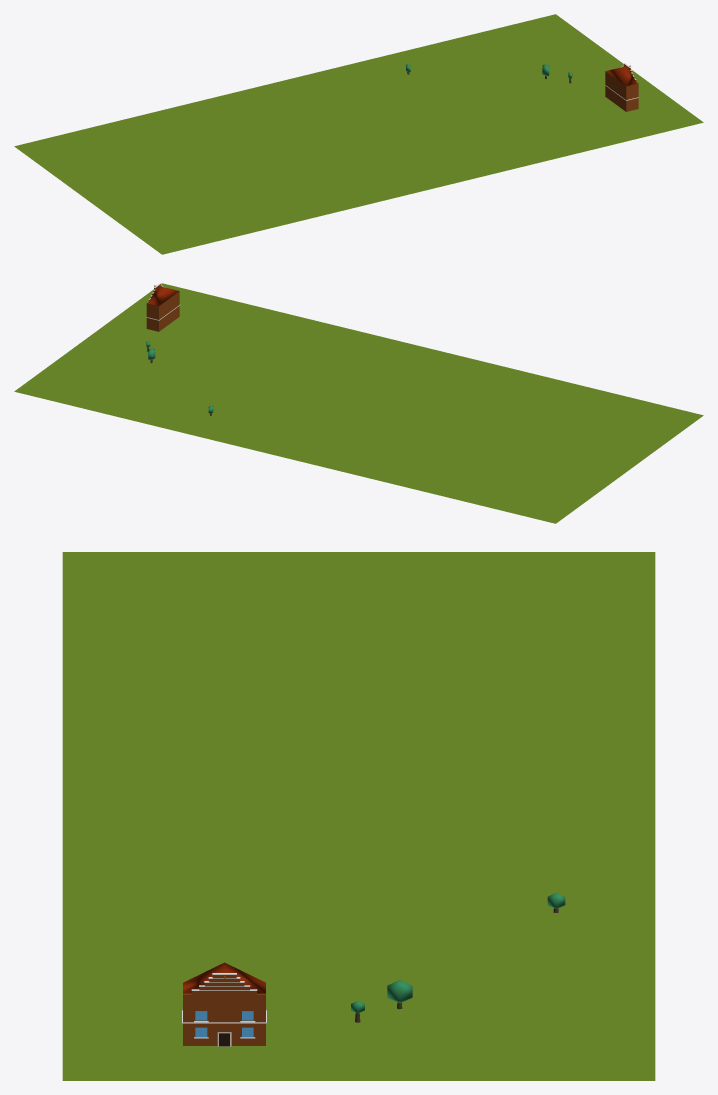
Rendered from nature_city_left1.glb.
3 views of the same model, one above another, from view 1: azimuth 30°, elevation 25°; view 2: azimuth 150°, elevation 25°; view 3: azimuth 270°, elevation 25° (orthographic). The views are drawn at different scales.
Bounding box in the file's own units: 57 × 3.65 × 27.
